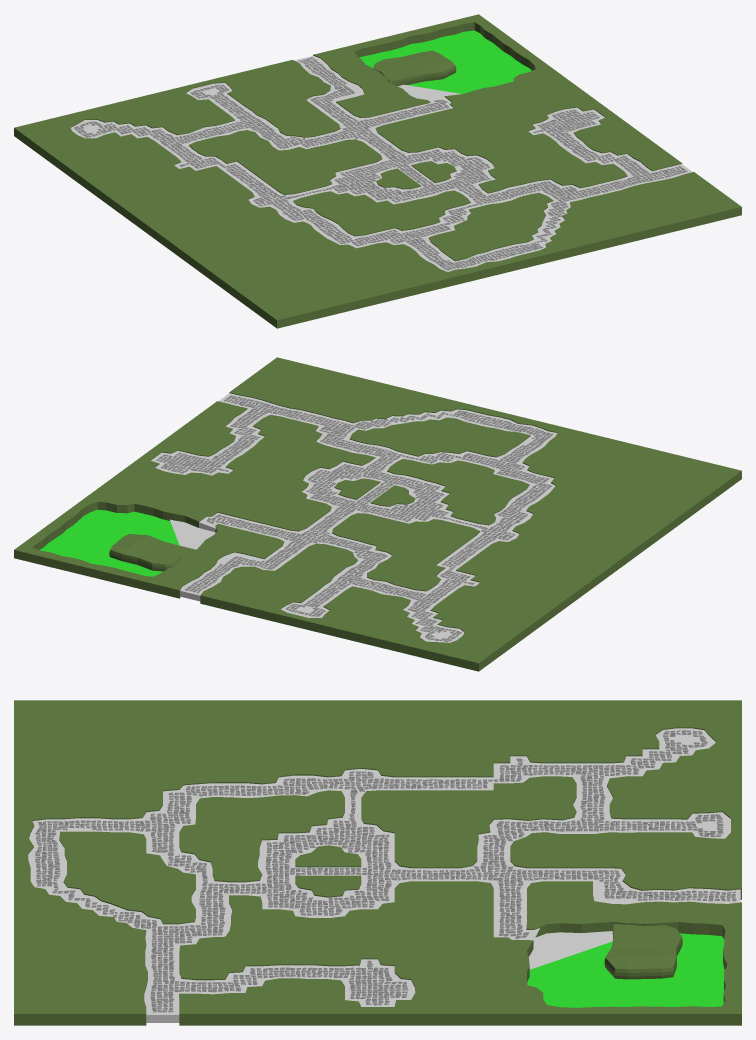
Rendered from terreno.fbx.
3 views of the same model, one above another, from view 1: azimuth 30°, elevation 25°; view 2: azimuth 150°, elevation 25°; view 3: azimuth 270°, elevation 25° (orthographic). The views are drawn at different scales.
Visible parts, largest first — view 1: SueloVerde, SueloBlanco, SueloPiedras, Lago, Isla; view 2: SueloVerde, SueloBlanco, SueloPiedras, Lago, Isla; view 3: SueloVerde, SueloBlanco, SueloPiedras, Lago, Isla.
Part boxes in pixels (x1,y1,x2,y2): SueloVerde: [14, 14, 741, 328]; SueloBlanco: [71, 55, 692, 271]; SueloPiedras: [74, 57, 687, 270]; Lago: [359, 30, 531, 93]; Isla: [373, 50, 456, 86]; SueloVerde: [14, 357, 741, 671]; SueloBlanco: [151, 393, 557, 642]; SueloPiedras: [156, 395, 553, 642]; Lago: [40, 509, 179, 576]; Isla: [109, 534, 195, 571]; SueloVerde: [14, 700, 741, 1025]; SueloBlanco: [28, 728, 740, 1022]; SueloPiedras: [35, 730, 736, 1012]; Lago: [527, 933, 724, 1007]; Isla: [604, 924, 682, 979].
Size of the model in its own units: 53051 by 1187 by 52015.
